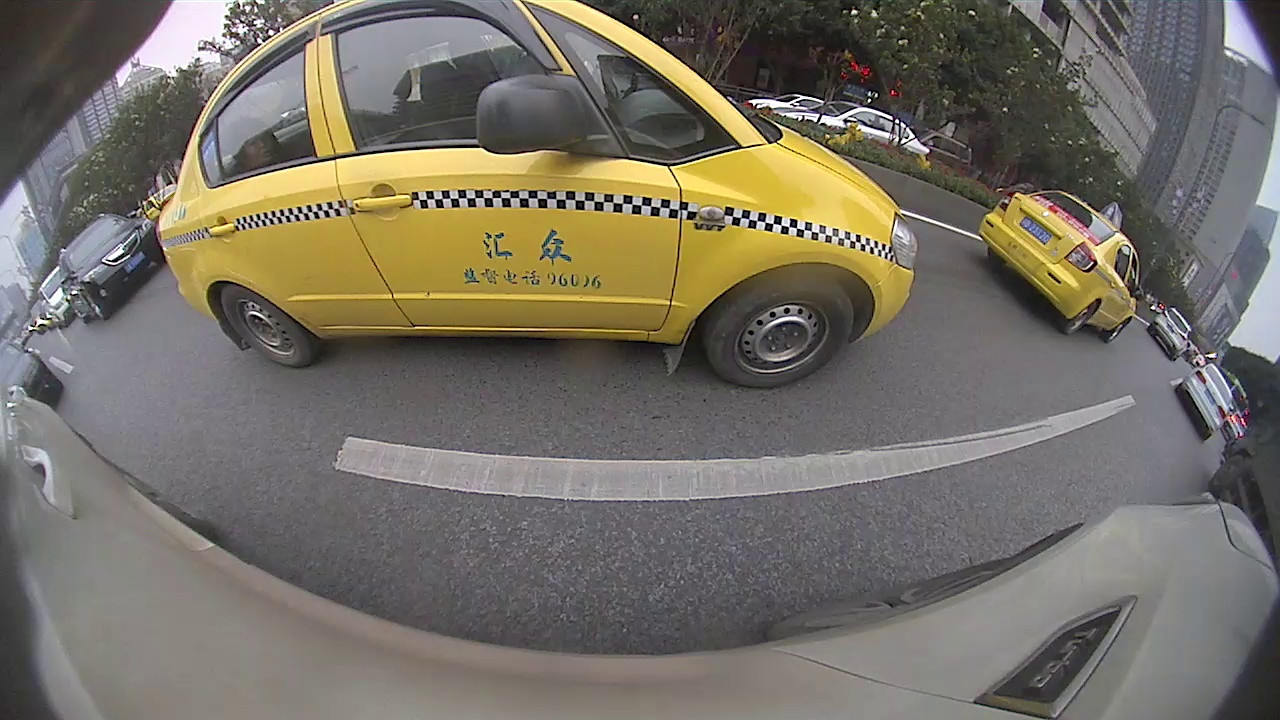car: (150, 1, 915, 390), (983, 177, 1141, 343), (58, 215, 161, 322), (1177, 363, 1244, 440), (1152, 309, 1191, 360)
front: (707, 290, 855, 388)
rear: (220, 285, 314, 369), (1063, 302, 1101, 334)
